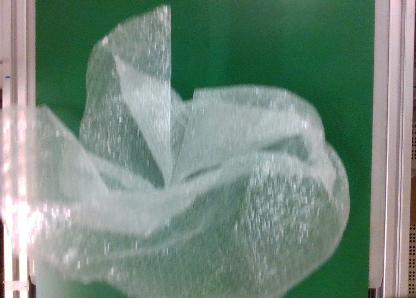Others: (7, 3, 348, 293)
